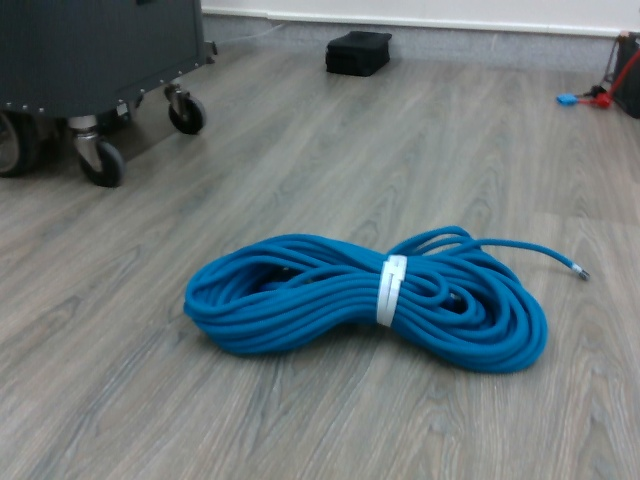rope: (181, 218, 555, 383)
